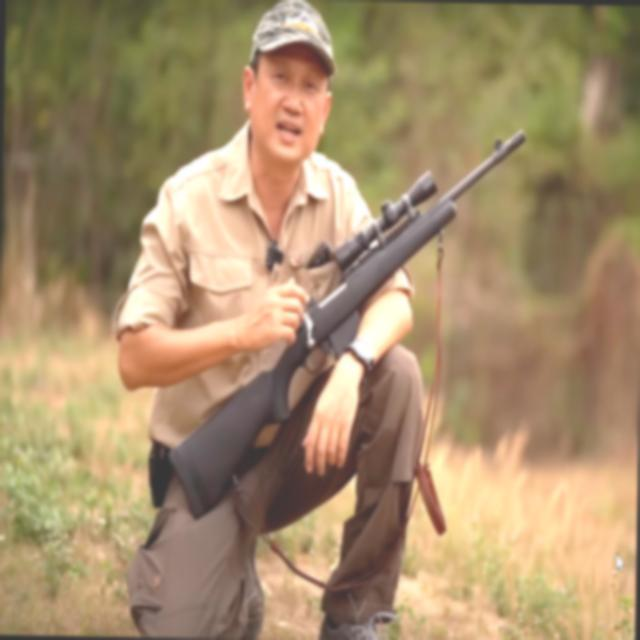rifle: (162, 108, 536, 598)
